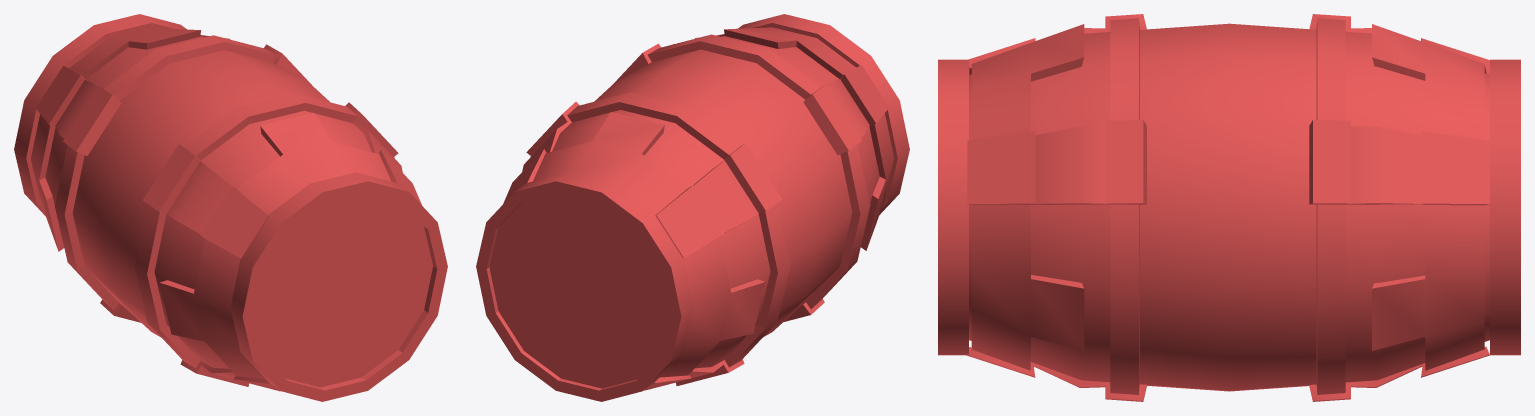
The model's file is SM_Tonneau_Blinde.fbx.
3 views of the same model, side by side, from view 1: azimuth 30°, elevation 25°; view 2: azimuth 150°, elevation 25°; view 3: azimuth 270°, elevation 25° (orthographic). The views are drawn at different scales.
Visible parts, largest first — view 1: Object007, Cylinder001, jkj, pasted__jkj, j, pasted__j; view 2: Object007, Cylinder001, pasted__jkj, jkj, pasted__j, j; view 3: Cylinder001, jkj, pasted__jkj, Object007, pasted__j, j.
Part boxes in pixels (left/top/right/bottom): Object007: left=14, top=14, right=447, bottom=401; Cylinder001: left=45, top=36, right=371, bottom=368; jkj: left=134, top=93, right=394, bottom=378; pasted__jkj: left=31, top=28, right=277, bottom=309; j: left=143, top=102, right=421, bottom=391; pasted__j: left=36, top=35, right=311, bottom=322; Object007: left=476, top=14, right=909, bottom=401; Cylinder001: left=552, top=36, right=879, bottom=368; pasted__jkj: left=530, top=92, right=790, bottom=377; jkj: left=647, top=27, right=894, bottom=308; pasted__j: left=503, top=101, right=782, bottom=390; j: left=613, top=34, right=889, bottom=321; Cylinder001: left=969, top=23, right=1489, bottom=391; jkj: left=971, top=18, right=1139, bottom=394; pasted__jkj: left=1316, top=18, right=1484, bottom=394; Object007: left=938, top=59, right=1520, bottom=355; pasted__j: left=1309, top=14, right=1489, bottom=401; j: left=966, top=14, right=1146, bottom=401.
Bounding box in the file's own units: 188 × 186 × 284.
